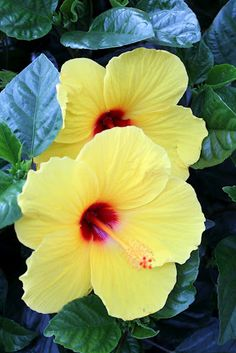Hibiscus: (20, 126, 208, 320), (55, 53, 211, 174)
